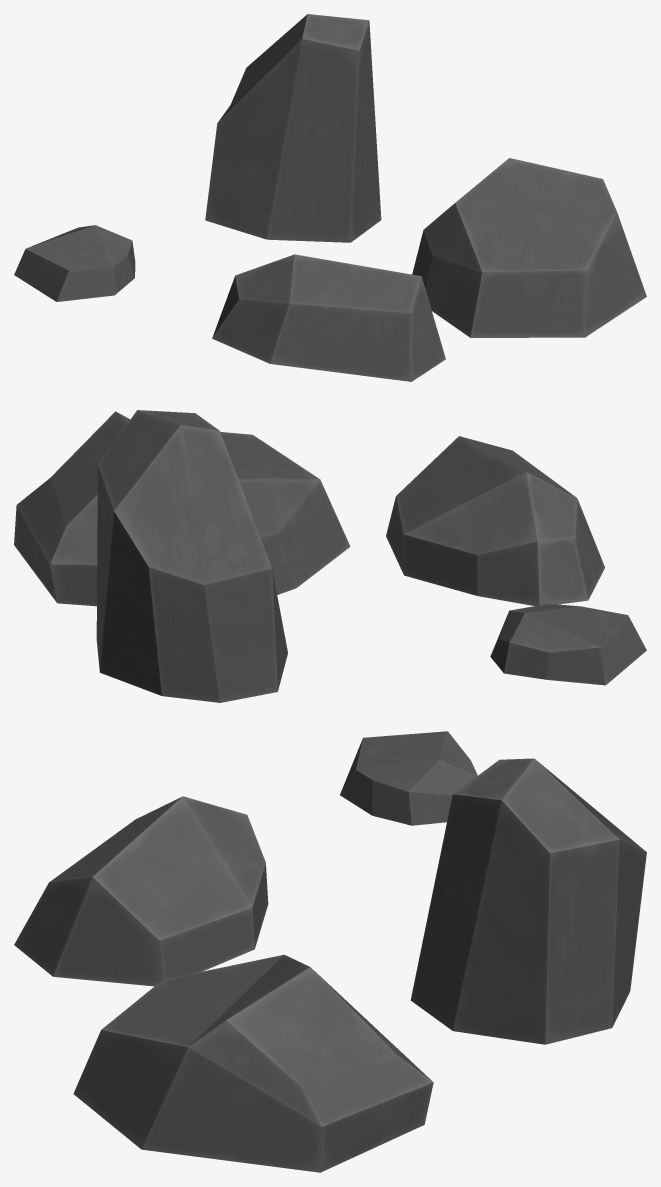
Rendered from roca2.obj.
The picture shows the model from 3 angles, top to bottom: view 1: azimuth 30°, elevation 25°; view 2: azimuth 150°, elevation 25°; view 3: azimuth 270°, elevation 25°; orthographic projection. The views are drawn at different scales.
Parts seen in each view (by area): view 1: roca:Rock_lp_7; view 2: roca:Rock_lp_7; view 3: roca:Rock_lp_7.
Boxes of the visible parts, left/top/right/bottom form: roca:Rock_lp_7: left=14, top=14, right=646, bottom=381; roca:Rock_lp_7: left=14, top=410, right=646, bottom=702; roca:Rock_lp_7: left=14, top=731, right=646, bottom=1172.
Size of the model in its own units: 9.6 by 3.62 by 7.54.
Materials: 4 (4 with a texture image).
